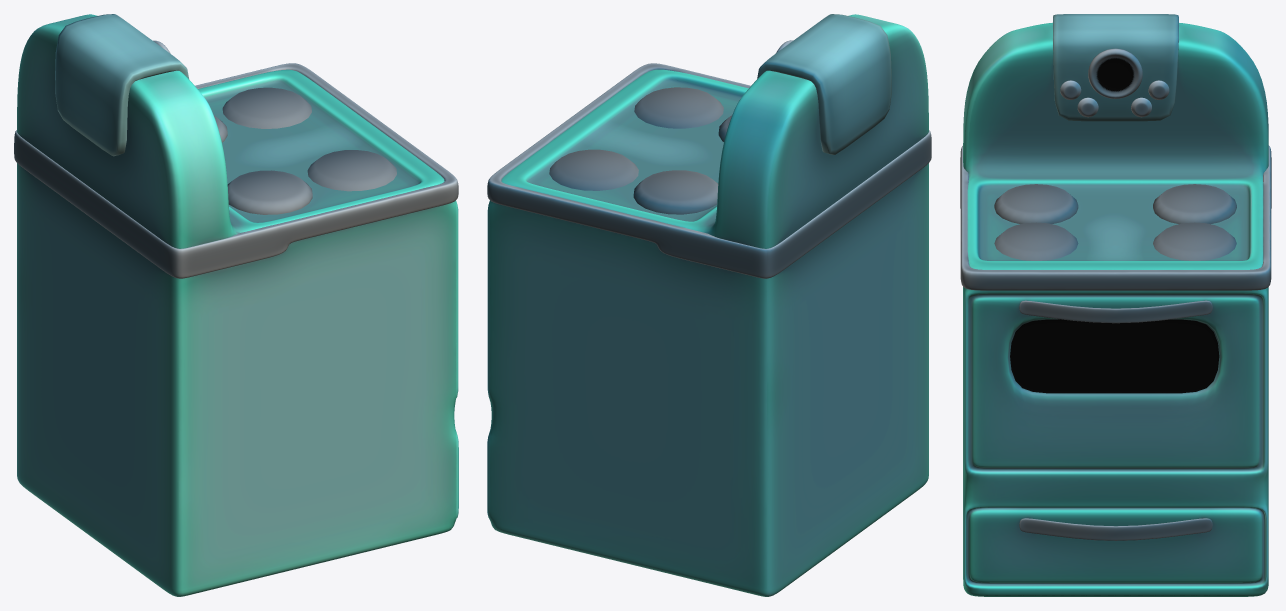
File: Stove_Final.fbx
3 renders of one model, left to right at view 1: azimuth 30°, elevation 25°; view 2: azimuth 150°, elevation 25°; view 3: azimuth 270°, elevation 25°, orthographic. The views are drawn at different scales.
Parts seen in each view (by area): view 1: Cylinder; view 2: Cylinder; view 3: Cylinder.
Part boxes in pixels (x1,y1,x2,y2): Cylinder: (14,14,458,596); Cylinder: (487,14,931,596); Cylinder: (960,14,1271,596).
Size of the model in its own units: 220 by 333 by 204.
